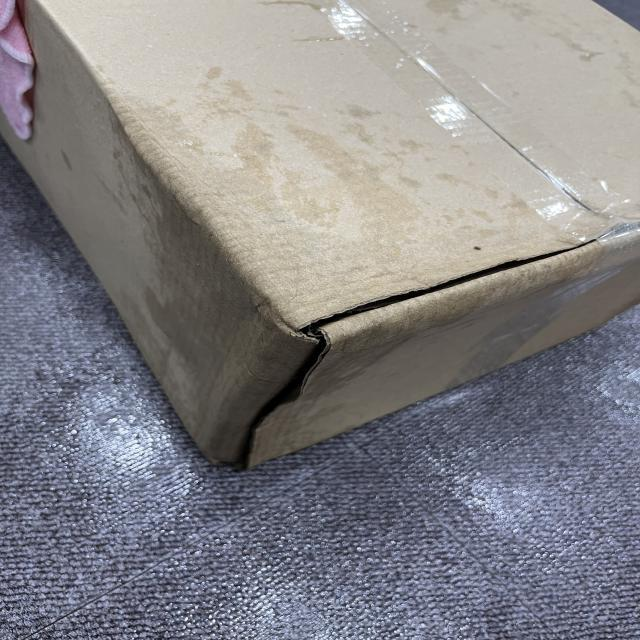wet: (124, 127, 574, 460)
